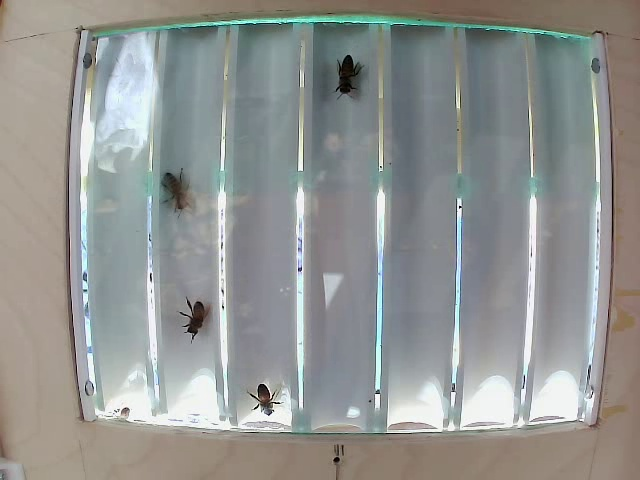bee: (169, 289, 228, 350), (149, 148, 205, 207), (320, 58, 354, 103)
